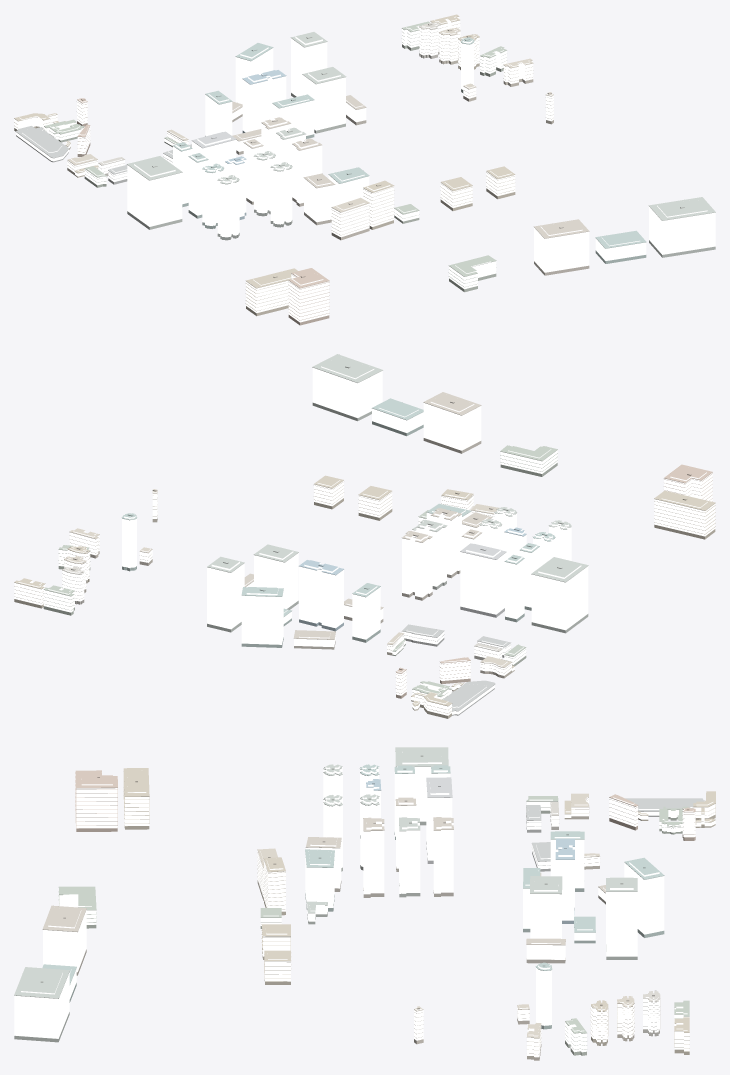
File: buildings--8_3-fine.glb
3 views of the same model, one above another, from view 1: azimuth 30°, elevation 25°; view 2: azimuth 150°, elevation 25°; view 3: azimuth 270°, elevation 25° (orthographic). The views are drawn at different scales.
Parts seen in each view (by area): view 1: block_-8_3_office, block_-8_3_roof, block_-8_3_residential, block_-8_3_darkglass, block_-8_3_concrete, block_-8_3_steel; view 2: block_-8_3_office, block_-8_3_roof, block_-8_3_residential, block_-8_3_darkglass, block_-8_3_concrete, block_-8_3_steel; view 3: block_-8_3_office, block_-8_3_roof, block_-8_3_residential, block_-8_3_darkglass, block_-8_3_concrete, block_-8_3_steel.
Part boxes in pixels (left/top/right/bottom): block_-8_3_office: left=127, top=36, right=715, bottom=272; block_-8_3_roof: left=14, top=14, right=715, bottom=320; block_-8_3_residential: left=14, top=16, right=553, bottom=322; block_-8_3_darkglass: left=14, top=44, right=715, bottom=325; block_-8_3_concrete: left=14, top=16, right=553, bottom=320; block_-8_3_steel: left=127, top=38, right=715, bottom=248; block_-8_3_office: left=122, top=366, right=588, bottom=646; block_-8_3_roof: left=14, top=354, right=715, bottom=714; block_-8_3_residential: left=14, top=449, right=715, bottom=715; block_-8_3_darkglass: left=14, top=403, right=715, bottom=718; block_-8_3_concrete: left=14, top=449, right=715, bottom=713; block_-8_3_steel: left=122, top=367, right=588, bottom=639; block_-8_3_office: left=14, top=752, right=664, bottom=1038; block_-8_3_roof: left=14, top=747, right=715, bottom=1057; block_-8_3_residential: left=59, top=777, right=715, bottom=1057; block_-8_3_darkglass: left=14, top=810, right=715, bottom=1060; block_-8_3_concrete: left=59, top=787, right=715, bottom=1054; block_-8_3_steel: left=14, top=766, right=664, bottom=998.
Size of the model in its own units: 549 by 70.54 by 628.
